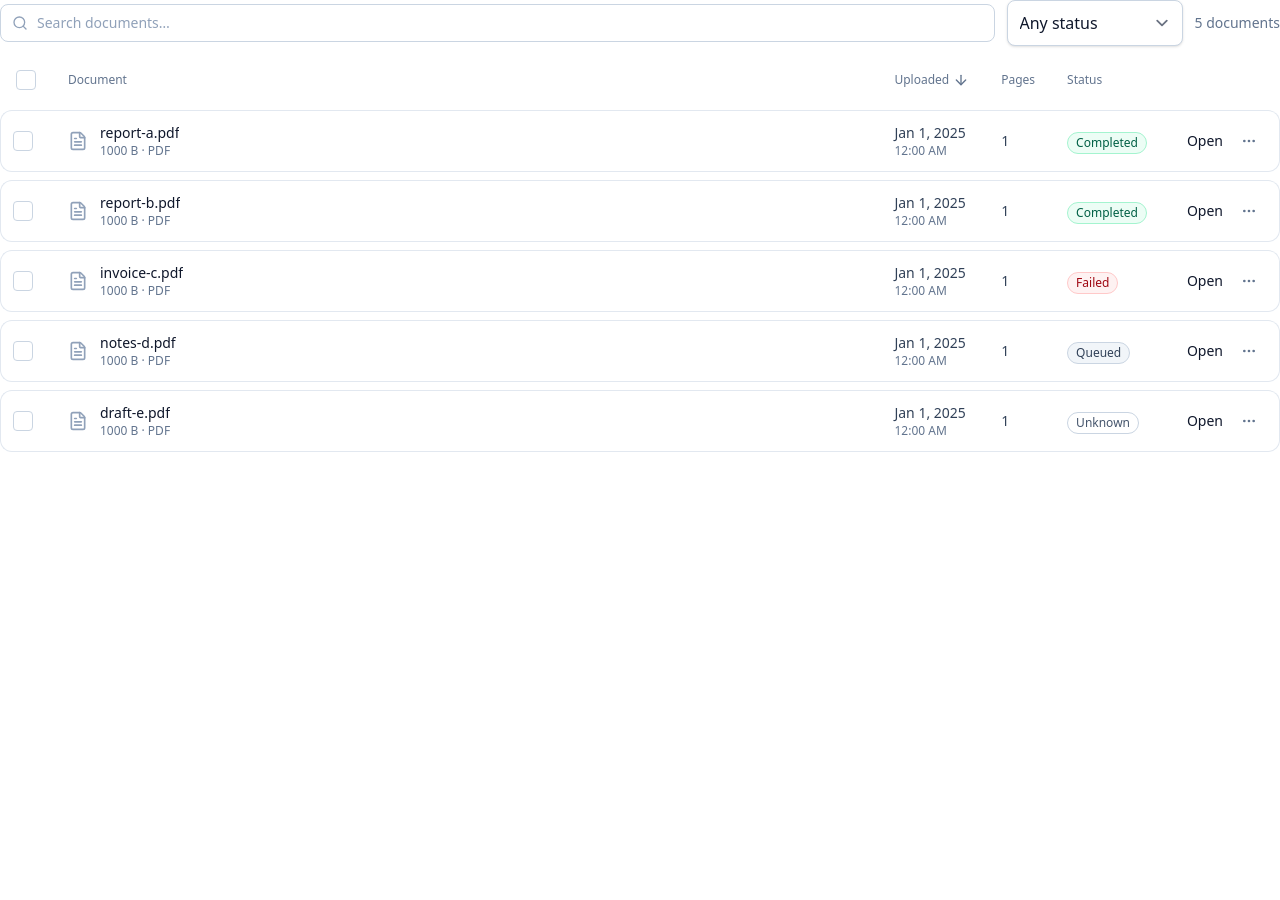
Test: a failed bulk reprocess keeps the selection and shows the error
Click the checkbox named "Select report-a.pdf": coordinates (23, 141) [13,131,33,151]
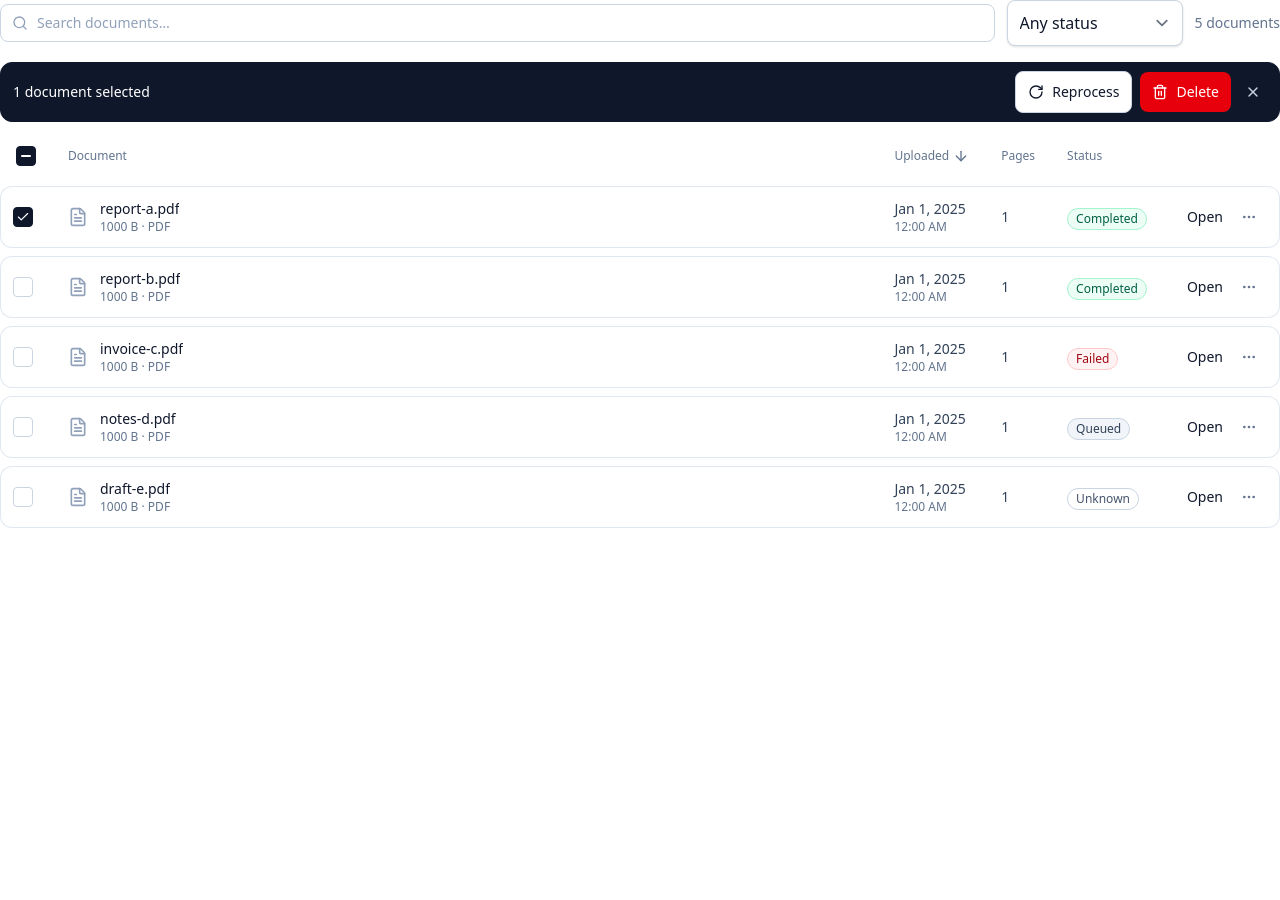
Click the button "Reprocess": coordinates (1074, 92) [1015,71,1132,113]
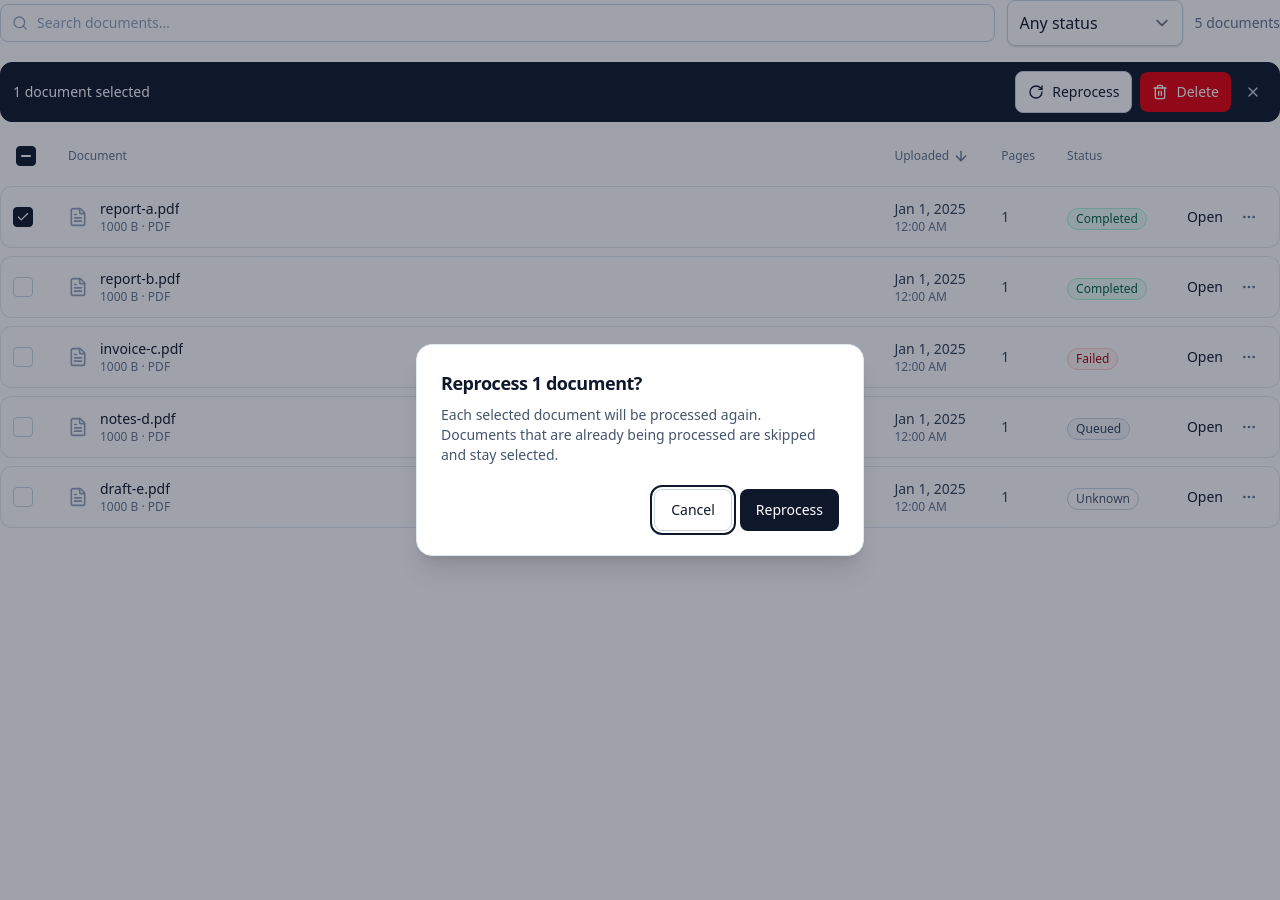
Click the button "Reprocess": coordinates (789, 510) [740,489,839,531]
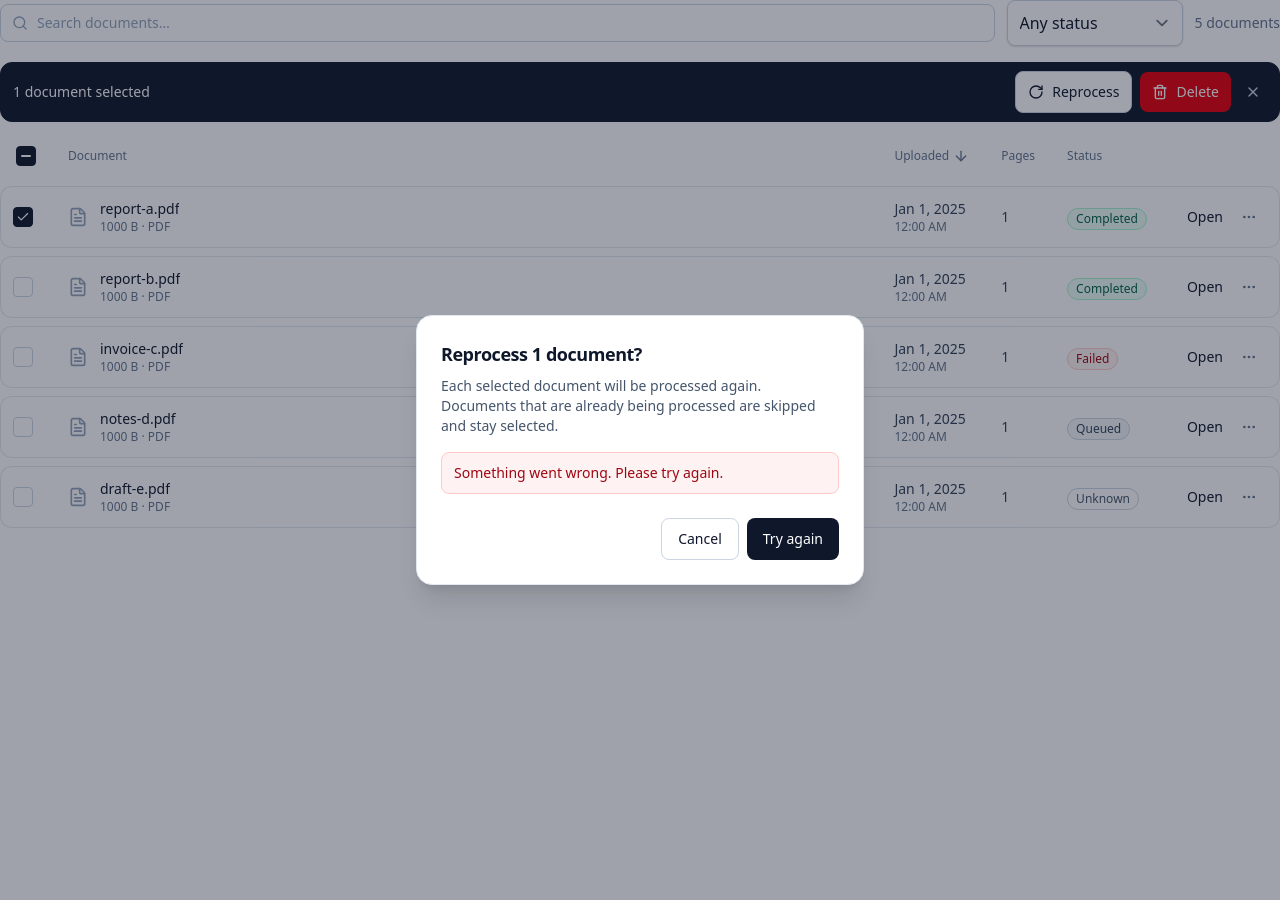
Expected: the text "1 document selected" is shown, [13,82,150,102]
Expected: the text "Something went wrong. Please try again." is shown, [441,452,839,494]
